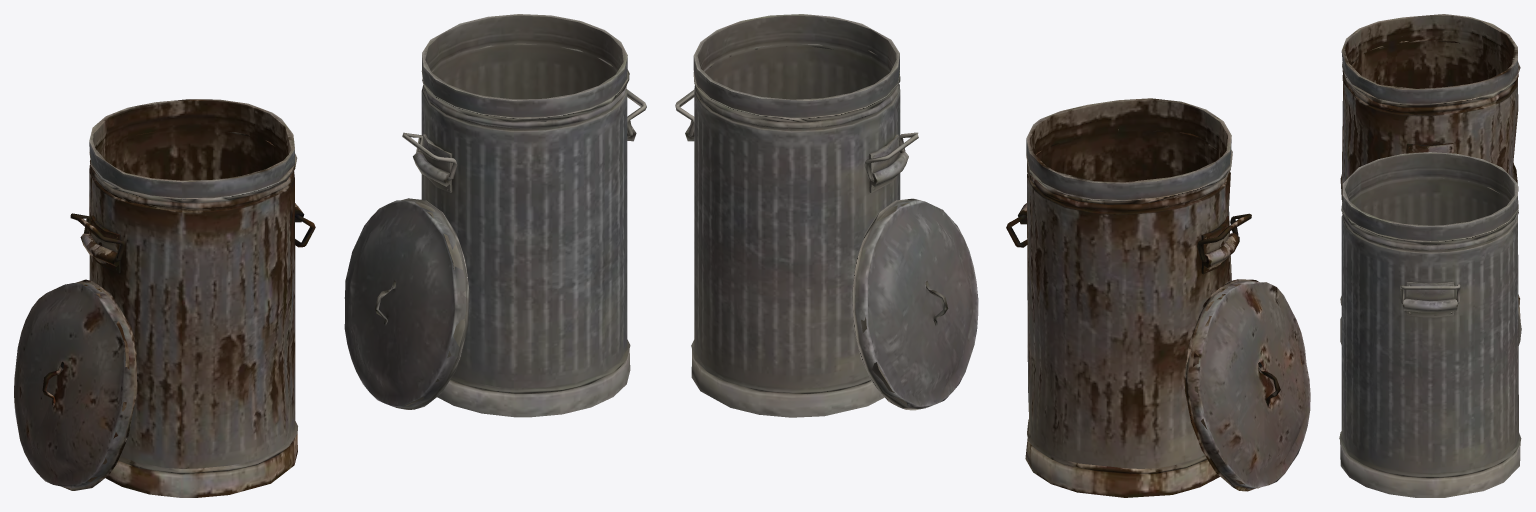
File: trash_can.glb
The picture shows the model from 3 angles, left to right: view 1: azimuth 30°, elevation 25°; view 2: azimuth 150°, elevation 25°; view 3: azimuth 270°, elevation 25°; orthographic projection. The views are drawn at different scales.
Visible parts, largest first — view 1: metal_trash_can, metal_trash_can_rust, metal_trash_can_lid, metal_trash_can_rust_lid; view 2: metal_trash_can, metal_trash_can_rust, metal_trash_can_lid, metal_trash_can_rust_lid; view 3: metal_trash_can, metal_trash_can_rust, metal_trash_can_handle_right.
Boxes of the visible parts, x1=… form: metal_trash_can: x1=413, y1=14, x2=636, y2=417; metal_trash_can_rust: x1=80, y1=99, x2=304, y2=497; metal_trash_can_lid: x1=344, y1=198, x2=469, y2=409; metal_trash_can_rust_lid: x1=14, y1=279, x2=137, y2=490; metal_trash_can: x1=685, y1=14, x2=908, y2=417; metal_trash_can_rust: x1=1018, y1=98, x2=1239, y2=497; metal_trash_can_lid: x1=852, y1=198, x2=978, y2=410; metal_trash_can_rust_lid: x1=1184, y1=279, x2=1310, y2=491; metal_trash_can: x1=1339, y1=152, x2=1521, y2=497; metal_trash_can_rust: x1=1340, y1=14, x2=1520, y2=319; metal_trash_can_handle_right: x1=1400, y1=284, x2=1460, y2=303.
Bounding box in the file's own units: 1.78 × 0.9062 × 0.5533.
2 materials, 2 textured.
